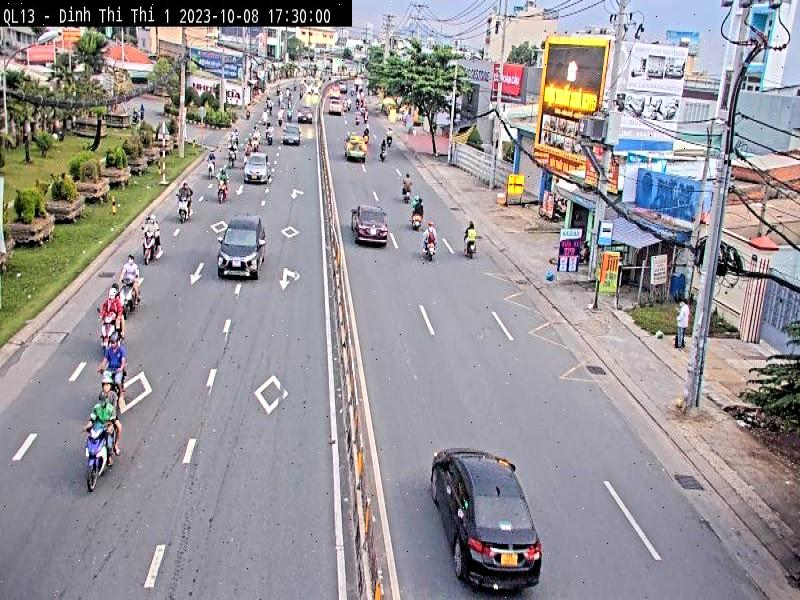car: (432, 447, 544, 595), (219, 218, 263, 286), (354, 212, 390, 243), (244, 152, 270, 185)
motorcycle: (82, 425, 106, 490), (115, 274, 136, 314), (100, 308, 118, 349), (141, 229, 159, 262)
